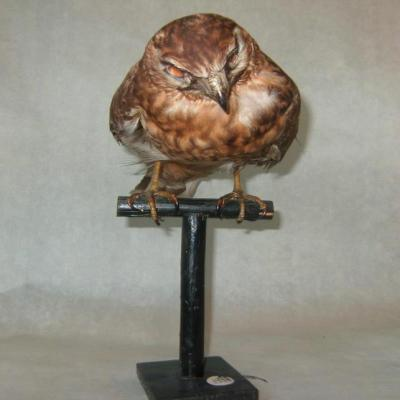natural_science_collection: (108, 14, 300, 226)
